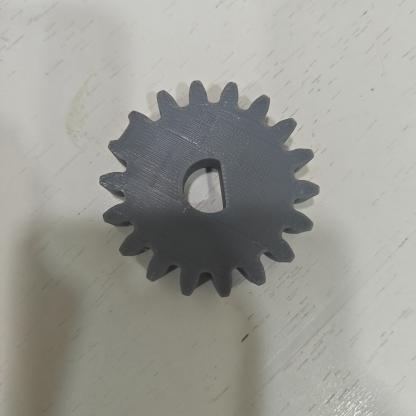defect: (202, 156, 249, 222), (97, 103, 149, 160)
gear: (100, 81, 320, 298)
